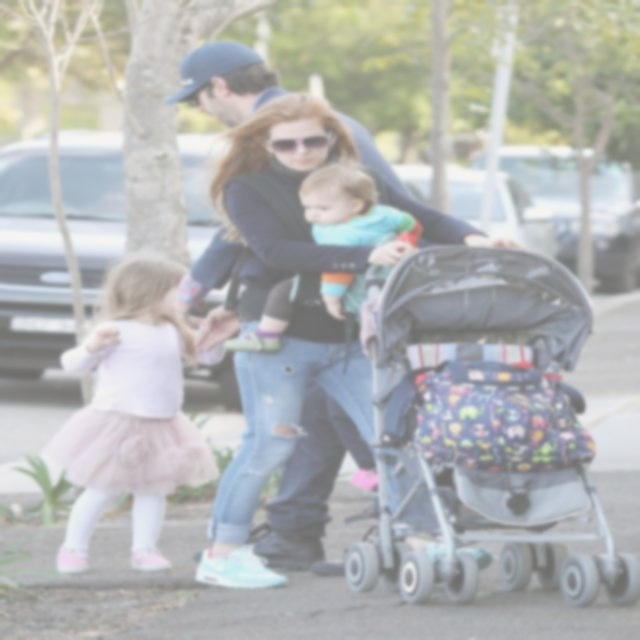pessoa: (188, 90, 536, 594), (160, 38, 422, 358), (42, 257, 232, 575), (221, 162, 424, 354), (0, 151, 218, 232)
